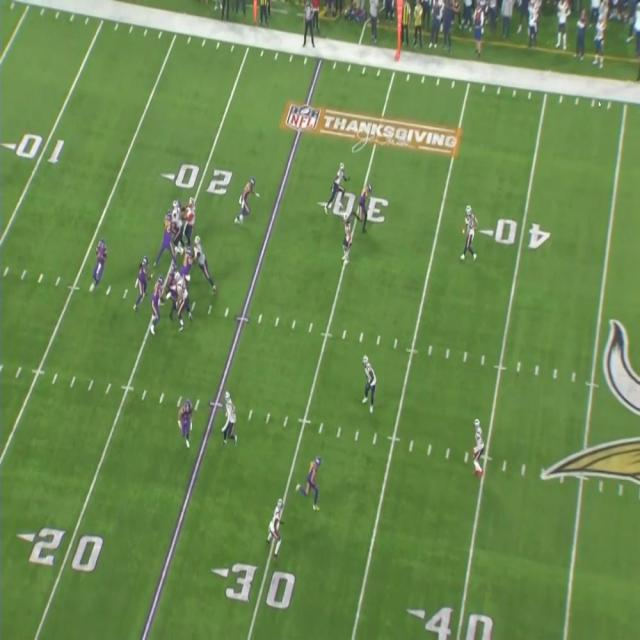db: (269, 500, 285, 557), (464, 204, 479, 258), (365, 355, 379, 409), (474, 416, 486, 478), (332, 161, 345, 208)
lb: (224, 391, 239, 443), (344, 215, 354, 262)
qb: (97, 237, 110, 289)
skill: (305, 457, 322, 508), (137, 253, 150, 306), (237, 181, 253, 223), (182, 401, 195, 449), (357, 186, 371, 230)
